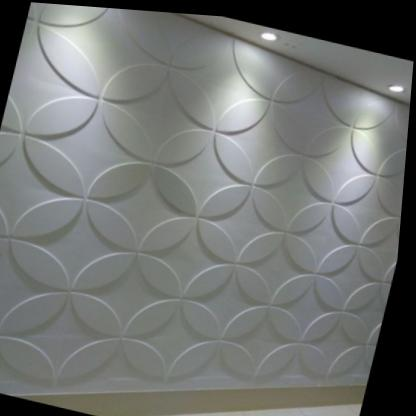Futech tiles: (0, 17, 415, 382)
